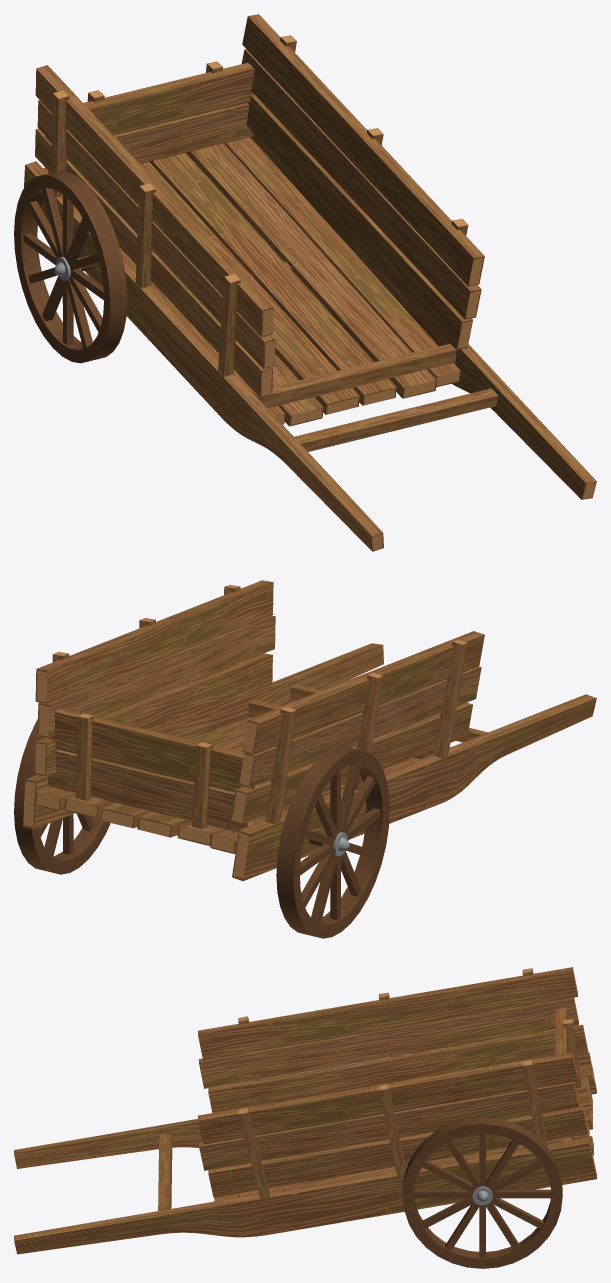
Rendered from Prop_Wagon.gltf.
3 views of the same model, one above another, from view 1: azimuth 30°, elevation 25°; view 2: azimuth 150°, elevation 25°; view 3: azimuth 270°, elevation 25° (orthographic). The views are drawn at different scales.
Visible parts, largest first — view 1: Prop_Wagon; view 2: Prop_Wagon; view 3: Prop_Wagon.
Boxes of the visible parts, x1,y1,x2,y2 form: Prop_Wagon: (14,14,596,551); Prop_Wagon: (14,580,596,938); Prop_Wagon: (14,967,596,1268).
Bounding box in the file's own units: 1.95 × 1.53 × 4.02.
Materials: 1 (1 with a texture image).
